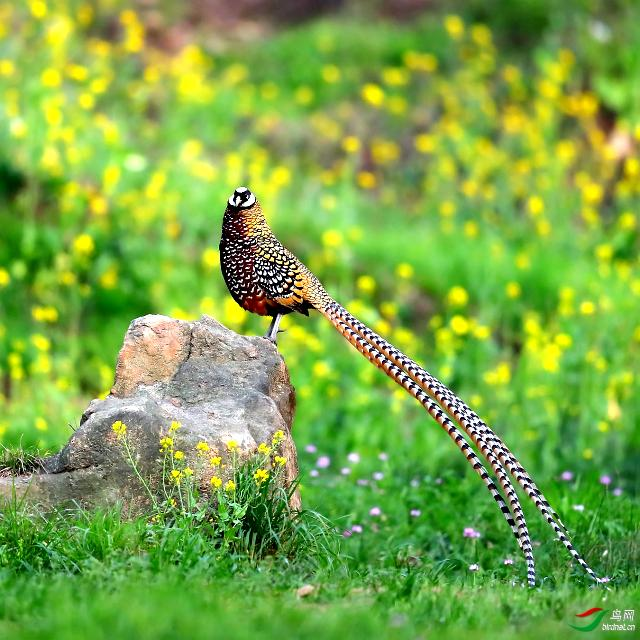Reeves-s Pheasant: (318, 303, 602, 587)
